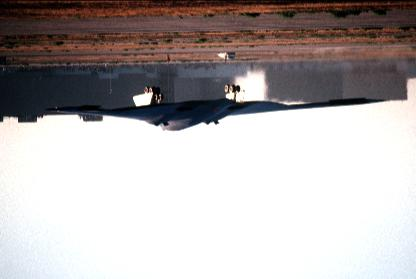B1: (43, 84, 389, 130)
